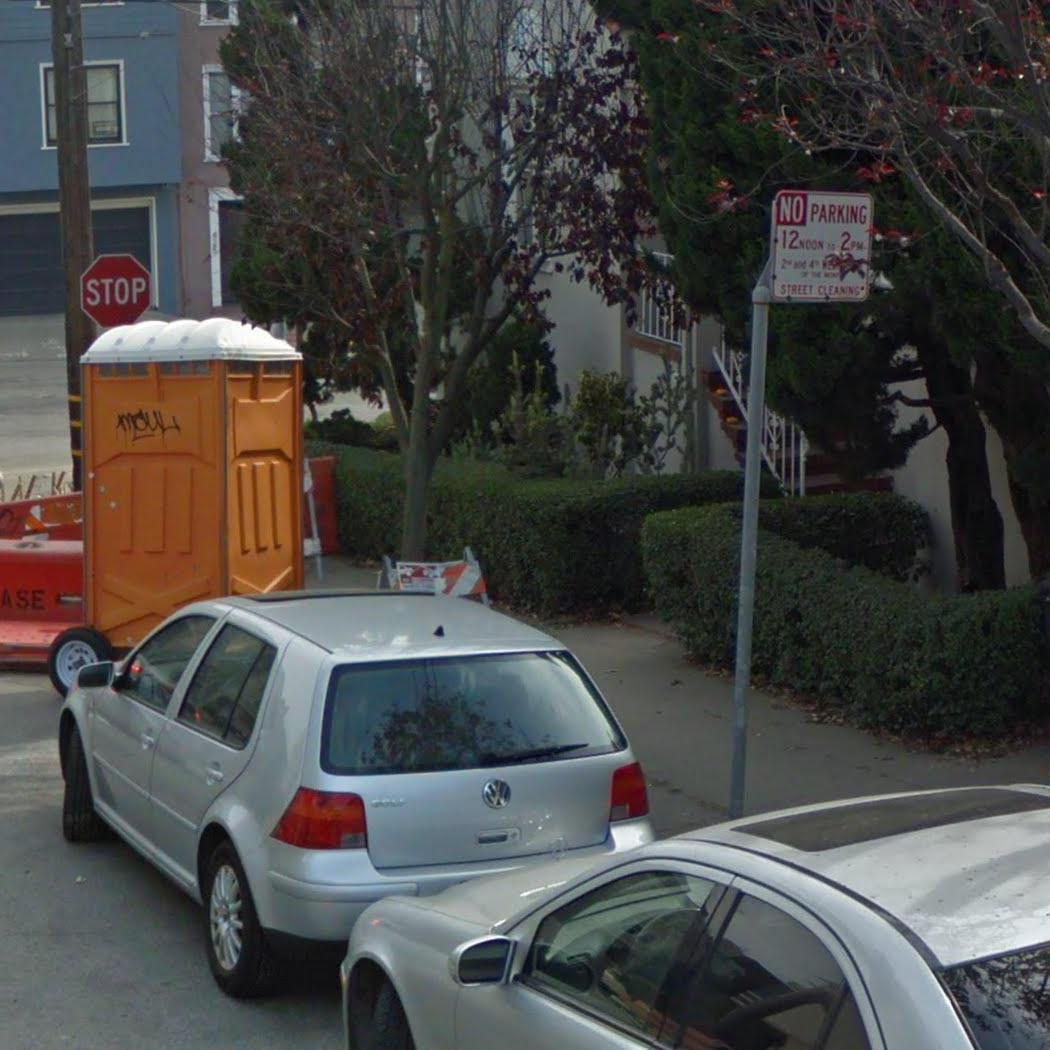No Parking: (763, 182, 880, 310)
